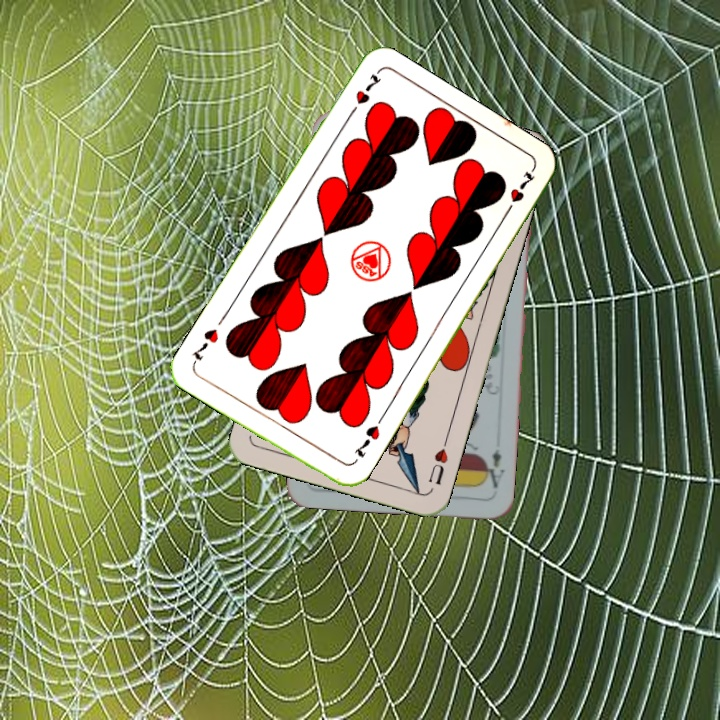EA: (480, 445, 507, 491)
H7: (343, 68, 384, 121), (349, 421, 383, 460)
HU: (424, 434, 451, 488)
